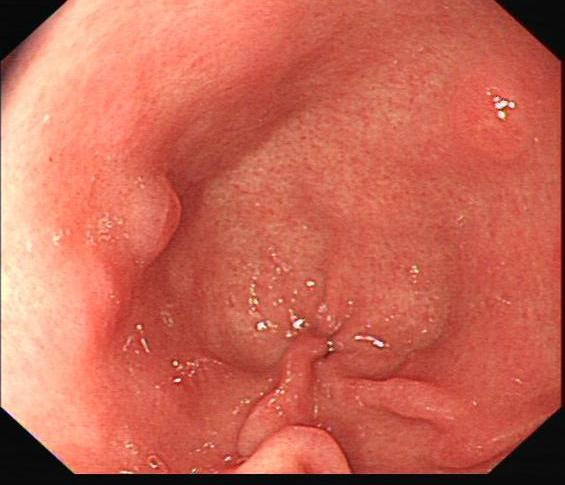Polyp: (109, 167, 193, 267)
